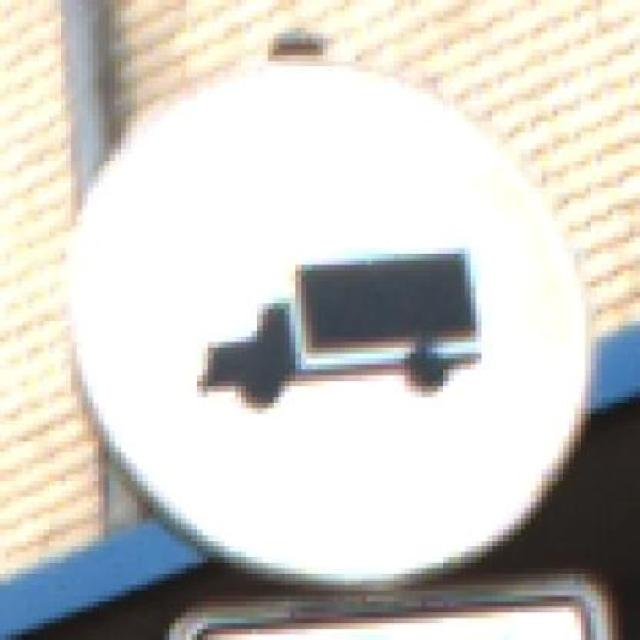Truck traffic is prohibited: (38, 44, 613, 602)
